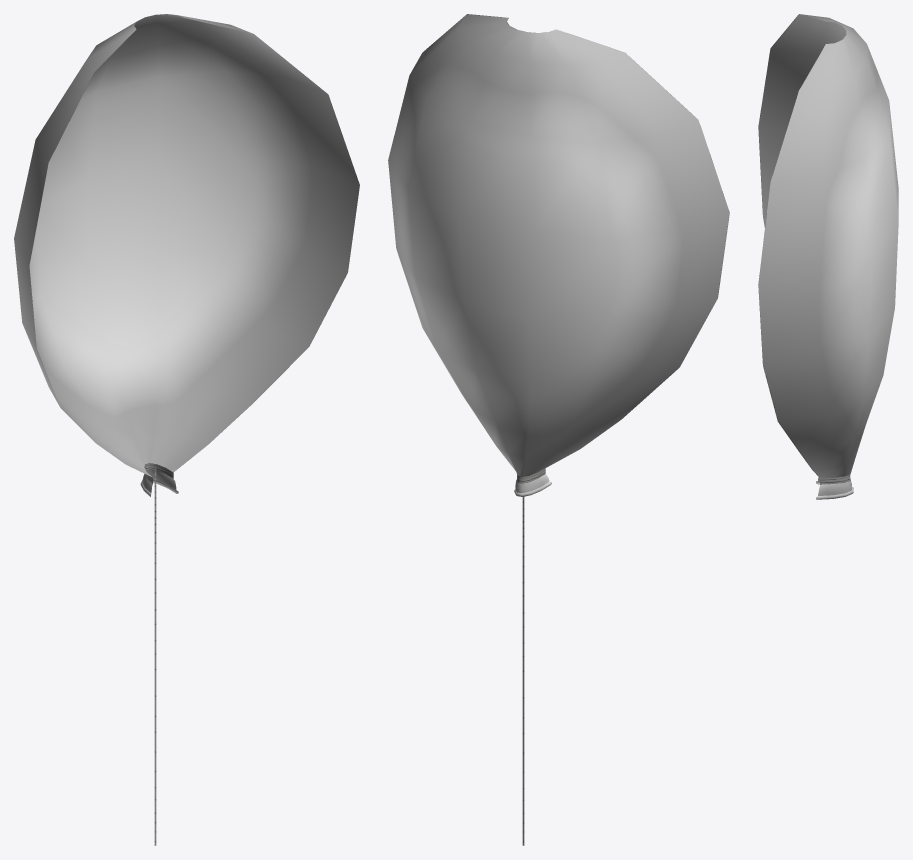
The model's file is Balloon-16''-42cm.fbx.
3 renders of one model, left to right at view 1: azimuth 30°, elevation 25°; view 2: azimuth 150°, elevation 25°; view 3: azimuth 270°, elevation 25°, orthographic.
Parts seen in each view (by area): view 1: Balloon, Tail; view 2: Balloon, Tail; view 3: Balloon.
Boxes of the visible parts, bbox=[...] form: Balloon: bbox=[14, 14, 359, 496]; Tail: bbox=[144, 463, 173, 845]; Balloon: bbox=[388, 14, 729, 496]; Tail: bbox=[517, 468, 545, 845]; Balloon: bbox=[758, 14, 898, 499].
Bounding box in the file's own units: 16 × 6 × 38.29.
Materials: 2 (2 with a texture image).
